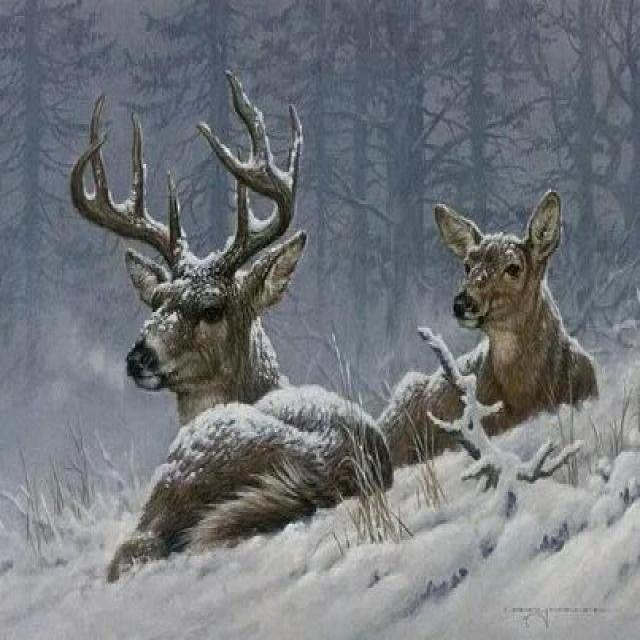deer: (92, 168, 360, 567), (376, 211, 594, 464)
